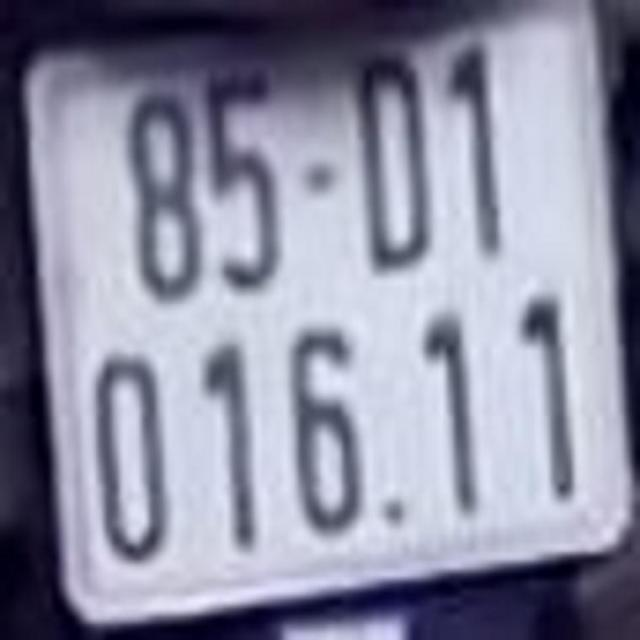0: (87, 346, 173, 561)
1: (509, 281, 587, 506), (446, 34, 517, 268), (415, 304, 489, 520), (196, 333, 264, 552)
5: (208, 72, 286, 290)
6: (286, 320, 366, 538)
8: (119, 79, 203, 294)
D: (340, 45, 435, 282)
